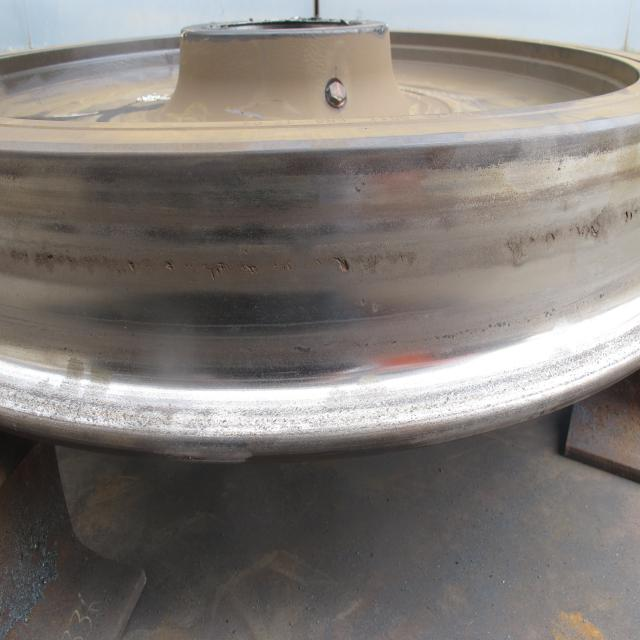Peeling: (334, 254, 351, 274), (209, 262, 228, 279), (244, 265, 258, 279), (163, 260, 175, 275), (127, 260, 139, 273), (589, 224, 599, 239), (47, 253, 57, 267), (624, 212, 635, 223), (551, 232, 558, 242)
